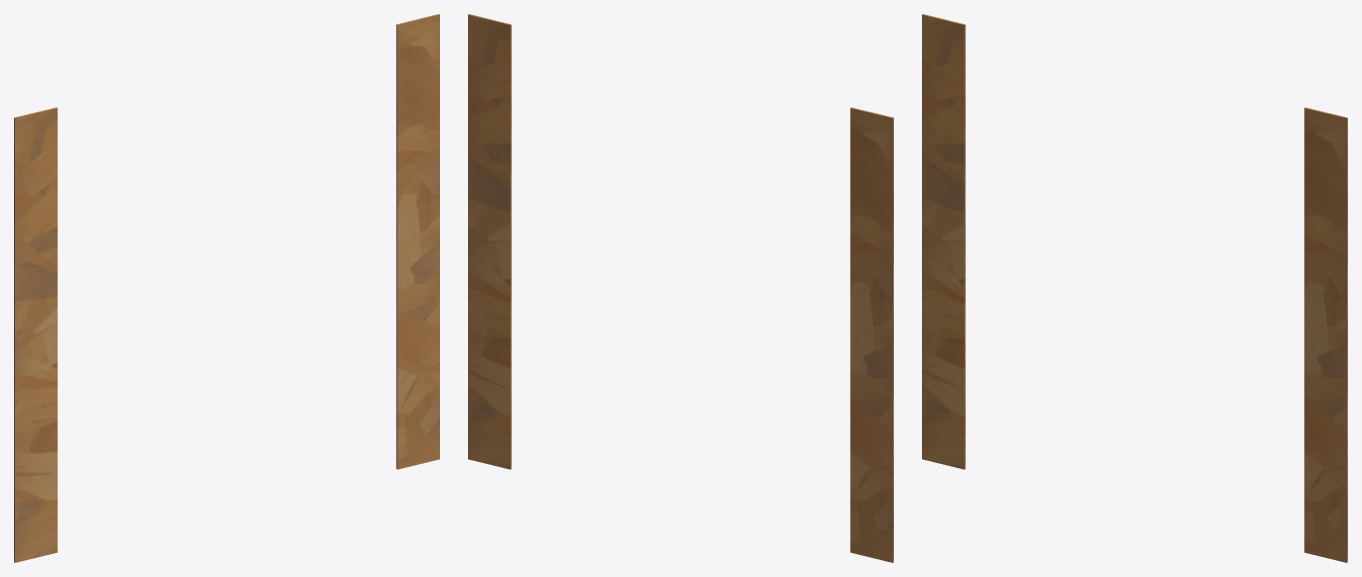
Rendered from OpeningJambSkin.fbx.
The picture shows the model from 3 angles, left to right: view 1: azimuth 30°, elevation 25°; view 2: azimuth 150°, elevation 25°; view 3: azimuth 330°, elevation 25°; orthographic projection.
Visible parts, largest first — view 1: mdl_poi_opening_jamb_skin; view 2: mdl_poi_opening_jamb_skin; view 3: mdl_poi_opening_jamb_skin.
Part boxes in pixels (left/top/right/bottom): mdl_poi_opening_jamb_skin: left=14, top=14, right=439, bottom=562; mdl_poi_opening_jamb_skin: left=468, top=14, right=893, bottom=562; mdl_poi_opening_jamb_skin: left=922, top=14, right=1347, bottom=562.
Size of the model in its own units: 1 by 1 by 0.004.
